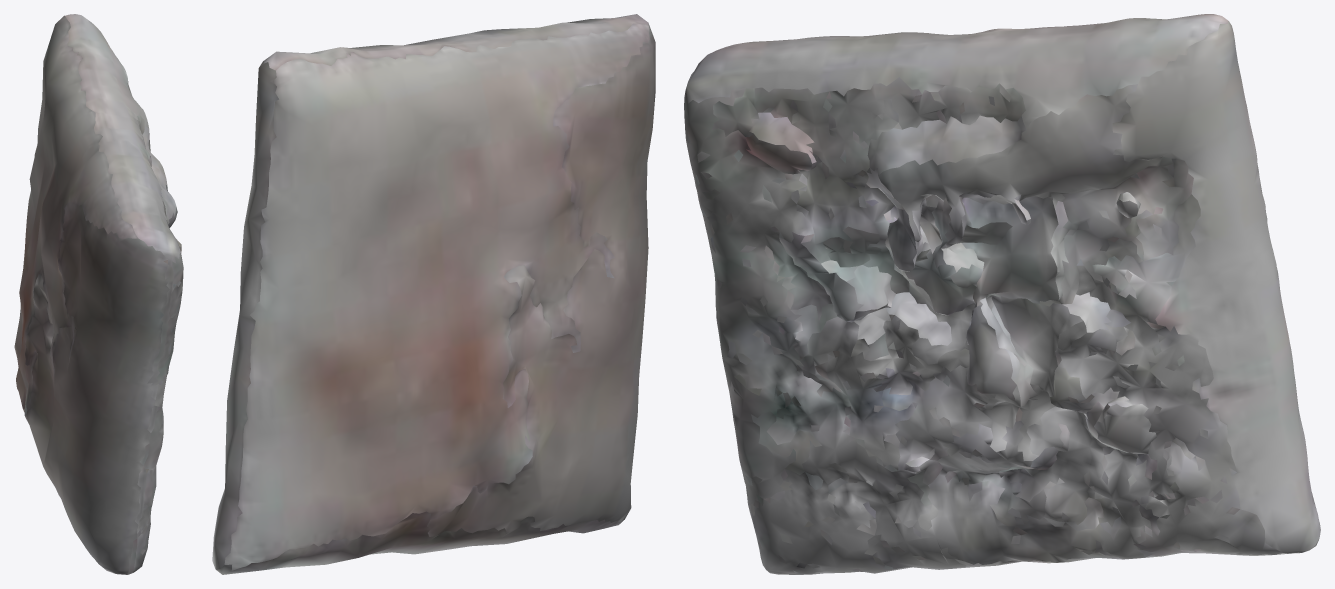
The model's file is 13_poster.glb.
3 views of the same model, side by side, from view 1: azimuth 30°, elevation 25°; view 2: azimuth 150°, elevation 25°; view 3: azimuth 270°, elevation 25° (orthographic). The views are drawn at different scales.
Visible parts, largest first — view 1: 13_poster; view 2: 13_poster; view 3: 13_poster.
Boxes of the visible parts, box(x1,y1,x2,y2) form: 13_poster: box(14, 14, 183, 574); 13_poster: box(212, 14, 655, 574); 13_poster: box(684, 14, 1320, 574).
Size of the model in its own units: 0.3916 by 1 by 0.9241.
1 material, 1 textured.
